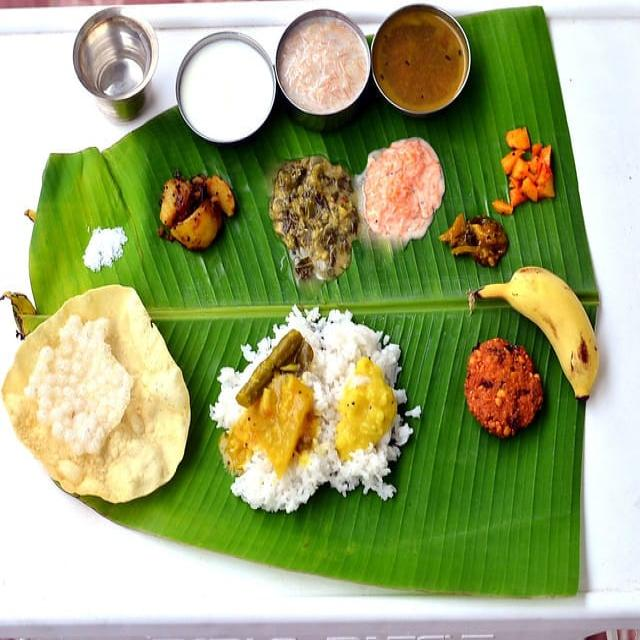veg meals: (2, 0, 636, 528)
